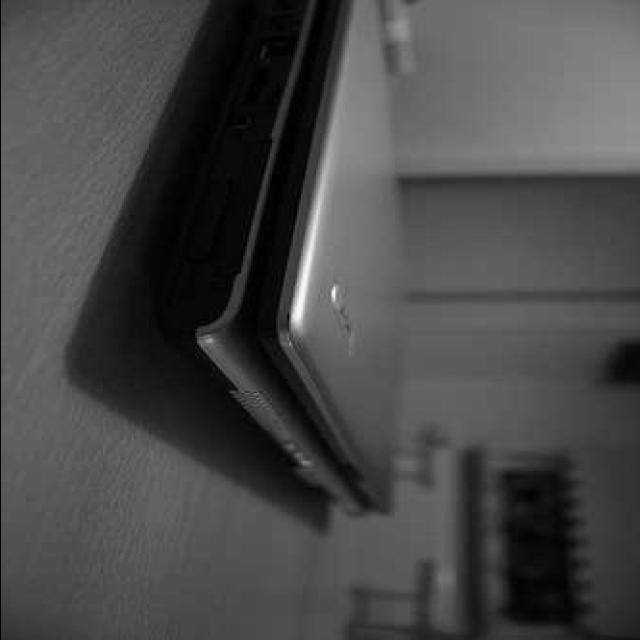laptop: (162, 35, 404, 515)
